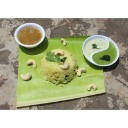venpongal: (43, 50, 77, 82)
